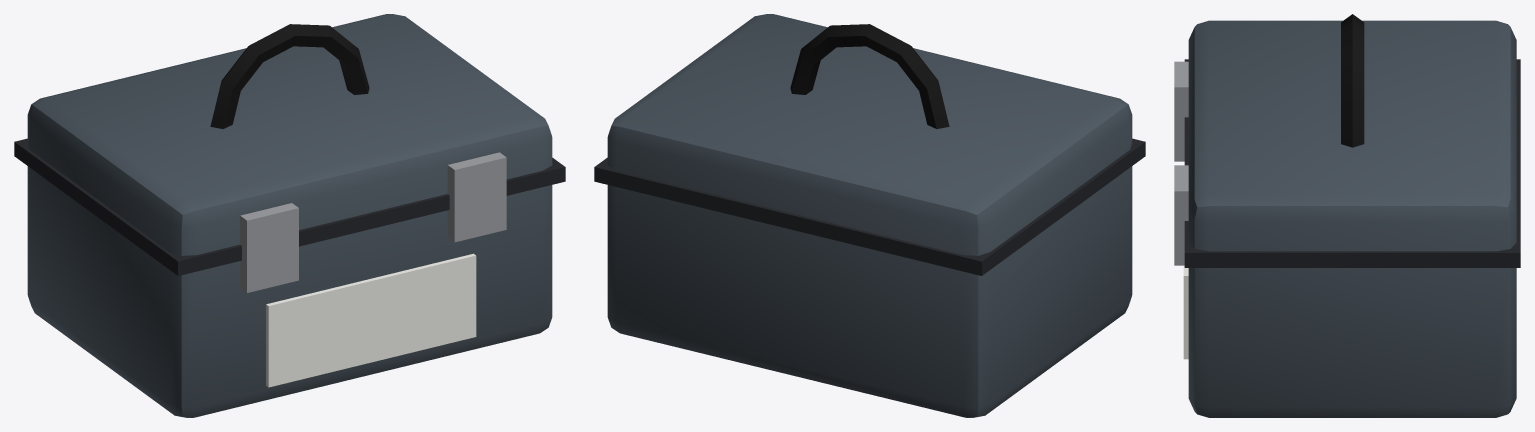
File: SM_Flot_Caja.fbx
The picture shows the model from 3 angles, left to right: view 1: azimuth 30°, elevation 25°; view 2: azimuth 150°, elevation 25°; view 3: azimuth 270°, elevation 25°; orthographic projection. The views are drawn at different scales.
Visible parts, largest first — view 1: SM_Flot_Caja; view 2: SM_Flot_Caja; view 3: SM_Flot_Caja.
Boxes of the visible parts, x1=… form: SM_Flot_Caja: x1=14, y1=14, x2=565, y2=417; SM_Flot_Caja: x1=594, y1=14, x2=1145, y2=417; SM_Flot_Caja: x1=1174, y1=14, x2=1520, y2=417.
Size of the model in its own units: 0.224 by 0.166 by 0.169.
